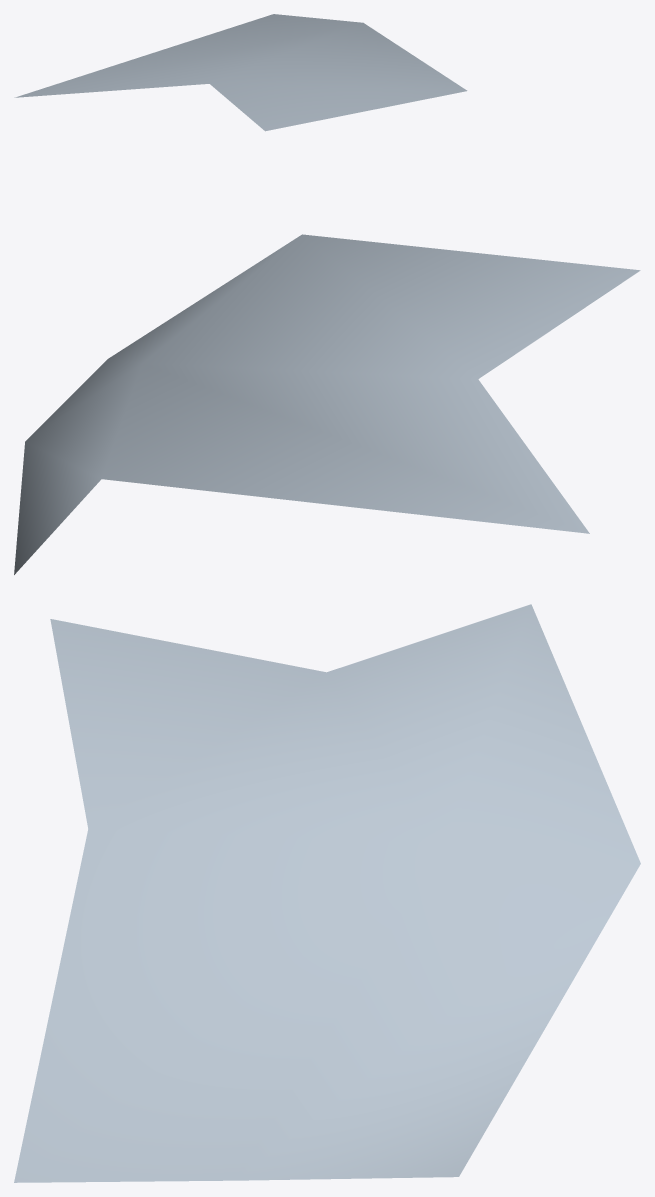
The model's file is acromioclavicular-ligament-l.glb.
The picture shows the model from 3 angles, top to bottom: view 1: azimuth 30°, elevation 25°; view 2: azimuth 150°, elevation 25°; view 3: azimuth 270°, elevation 25°; orthographic projection. The views are drawn at different scales.
Visible parts, largest first — view 1: Acromioclavicular ligament.l; view 2: Acromioclavicular ligament.l; view 3: Acromioclavicular ligament.l.
Part boxes in pixels (x1,y1,x2,y2): Acromioclavicular ligament.l: (14, 14, 467, 131); Acromioclavicular ligament.l: (14, 234, 640, 574); Acromioclavicular ligament.l: (14, 604, 640, 1182).
Size of the model in its own units: 0.0279 by 0.0105 by 0.0189.
